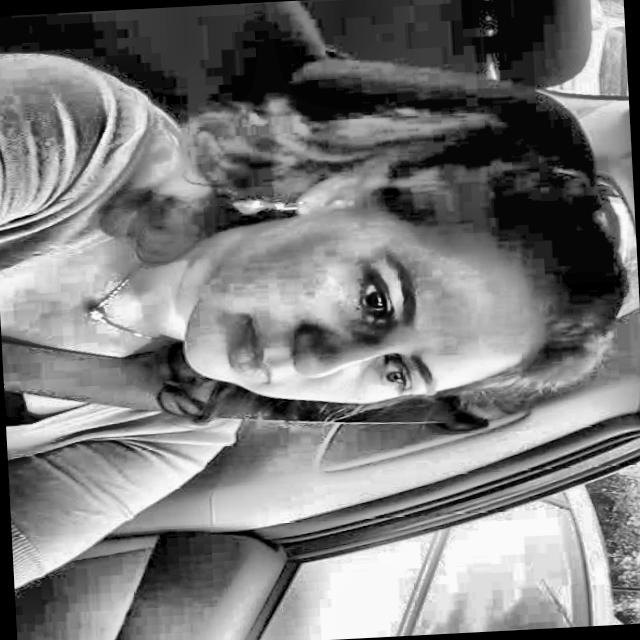closed_mouth: (213, 302, 288, 403)
open_eyes: (342, 251, 398, 333), (365, 348, 418, 415)
